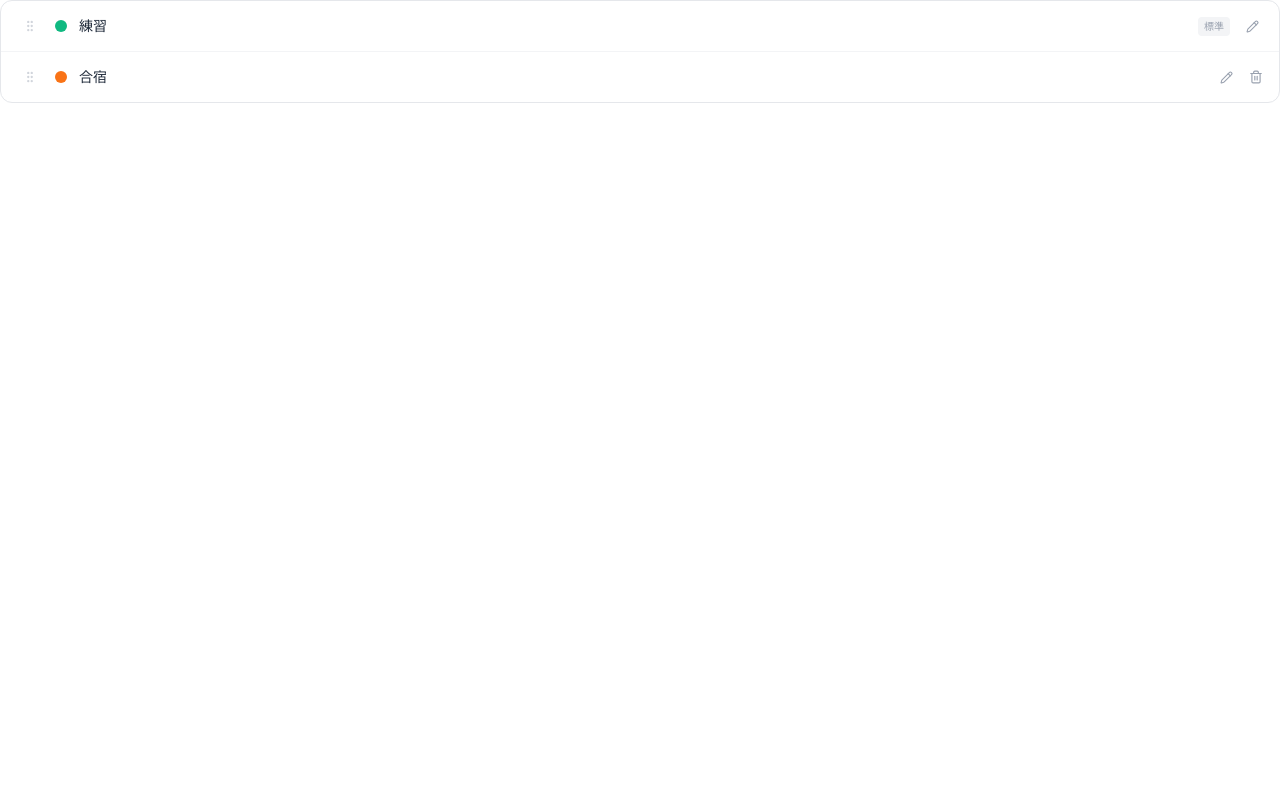
Scenario: CategoryList（canEdit: true） › 削除を確認でキャンセルするとdeleteEventCategoryを呼ばない
The width and height of the screenshot is (1280, 800).
Click the button named "合宿を削除" at point(1256, 77), box [1249,70,1263,84]
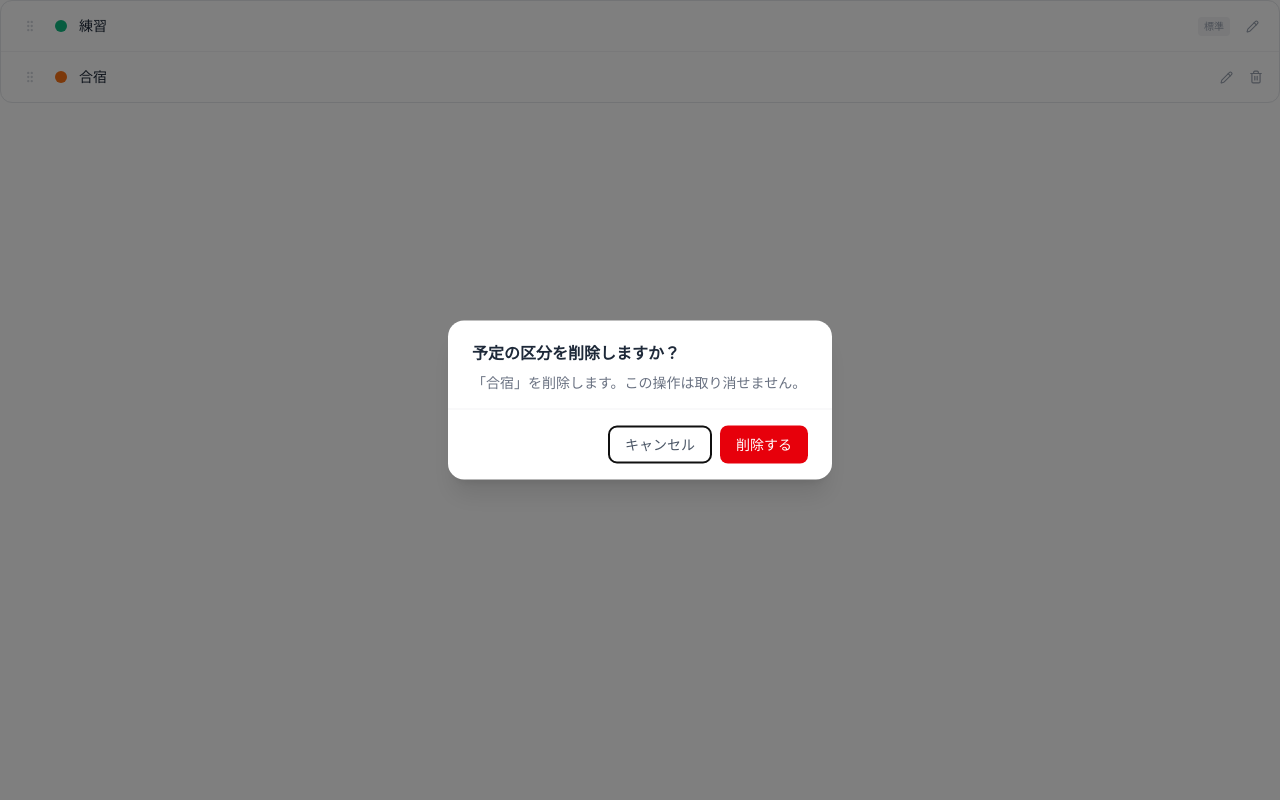
Click the button "キャンセル" at point(660, 444), box [608,426,712,464]
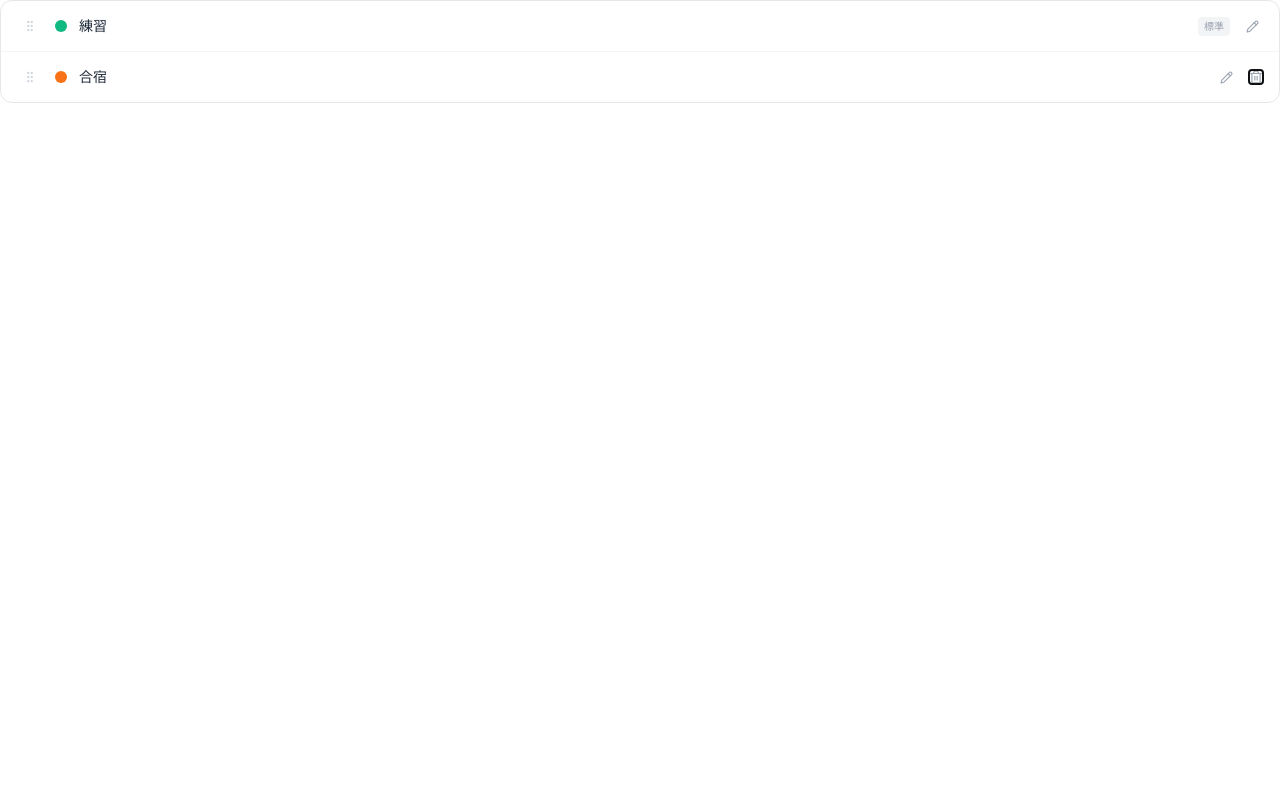
expect the dialog is gone: met
